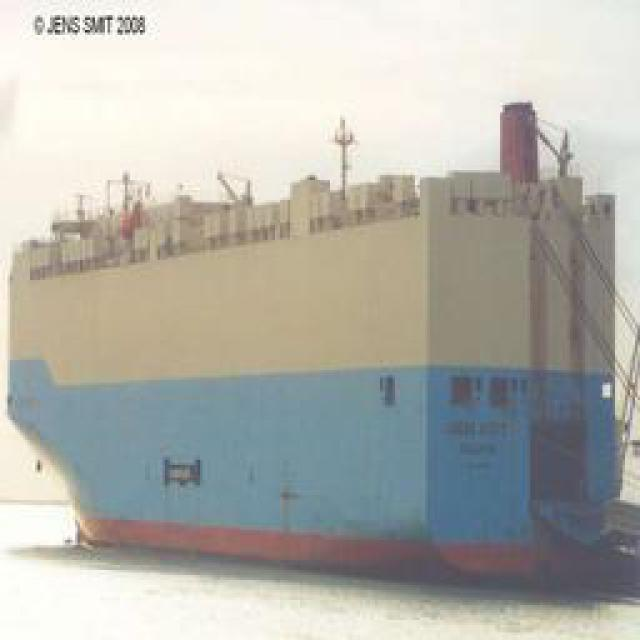Ship: (1, 107, 640, 600)
